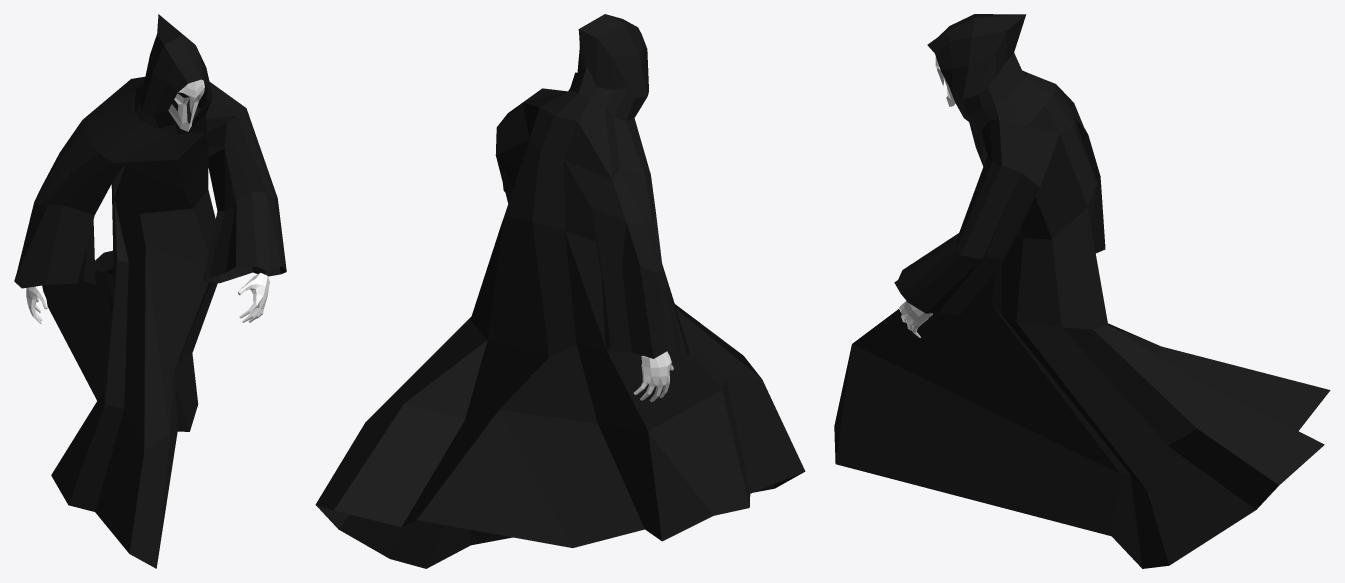
Rendered from ReaperWalk(33).obj.
The picture shows the model from 3 angles, left to right: view 1: azimuth 30°, elevation 25°; view 2: azimuth 150°, elevation 25°; view 3: azimuth 270°, elevation 25°; orthographic projection. The views are drawn at different scales.
Parts seen in each view (by area): view 1: Plane003; view 2: Plane003; view 3: Plane003.
Boxes of the visible parts, x1=… form: Plane003: x1=14, y1=14, x2=286, y2=568; Plane003: x1=315, y1=14, x2=805, y2=568; Plane003: x1=834, y1=14, x2=1330, y2=568.
Size of the model in its own units: 108 by 200 by 176.
